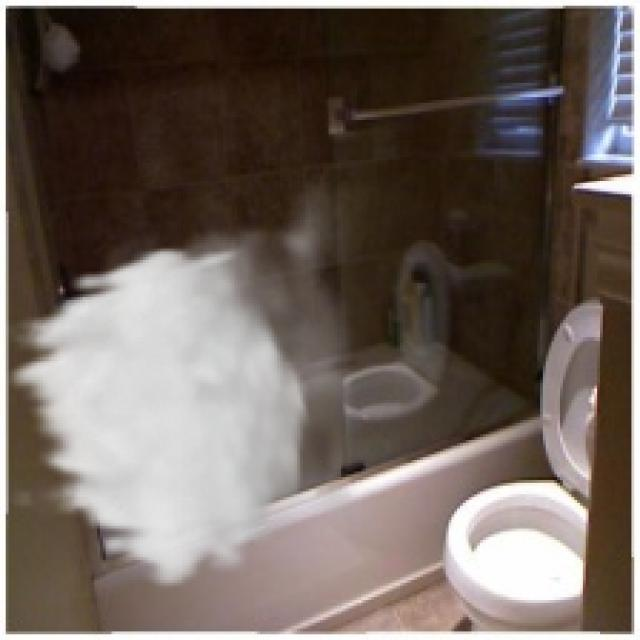smoke: (0, 172, 383, 592)
